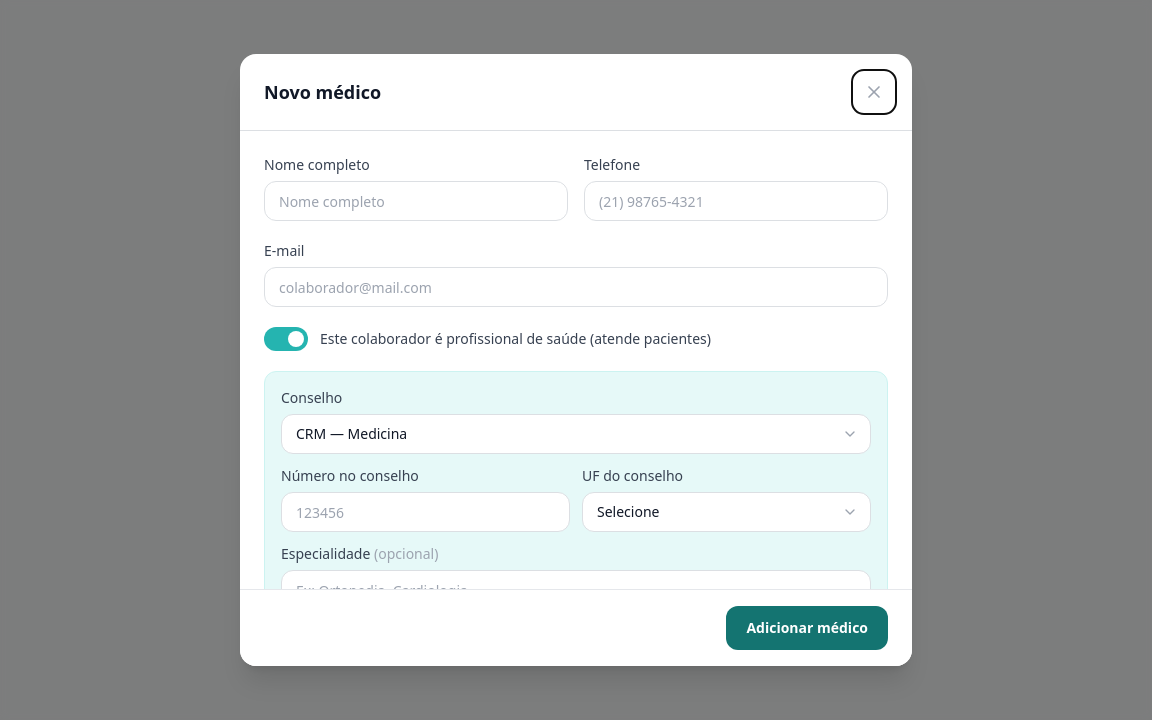
Test: NewCollaboratorModal — defaultIsDoctor › deve exibir mensagem de erro de médico ao falhar com defaultIsDoctor=true
Type "Dr. Teste" into the field with placeholder "Nome completo" at (416, 201), box [264,181,568,221]
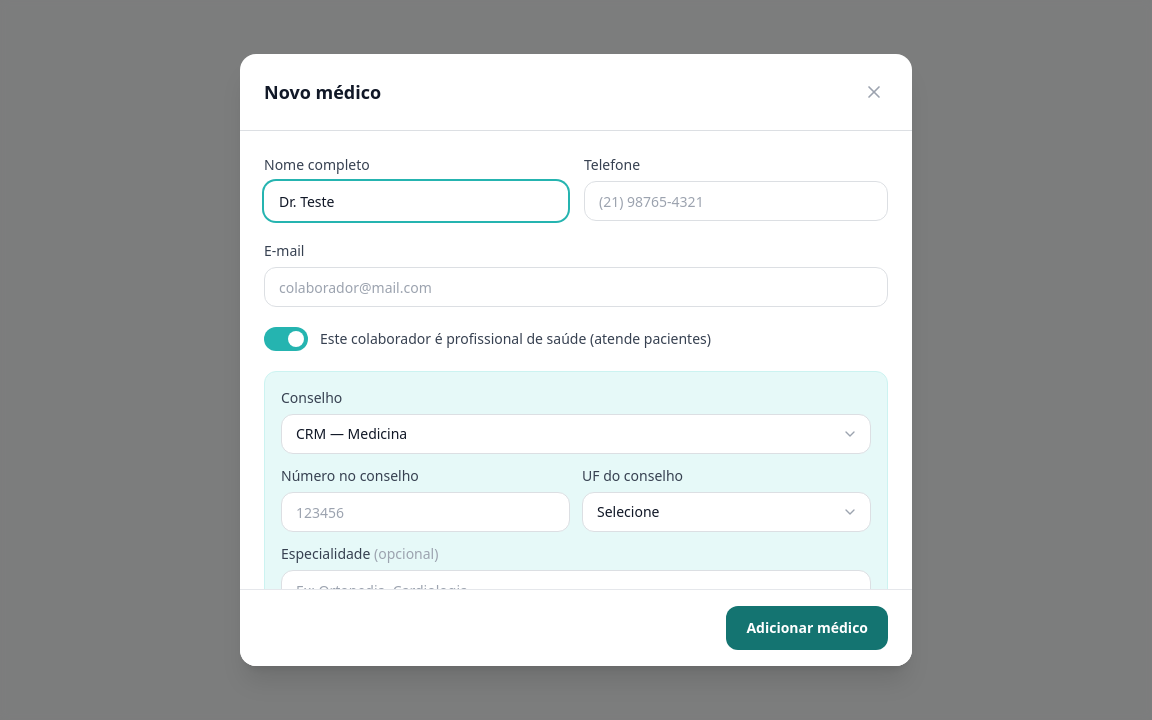
Type "21987654321" into the field with placeholder "(21) 98765-4321" at (736, 201), box [584,181,888,221]
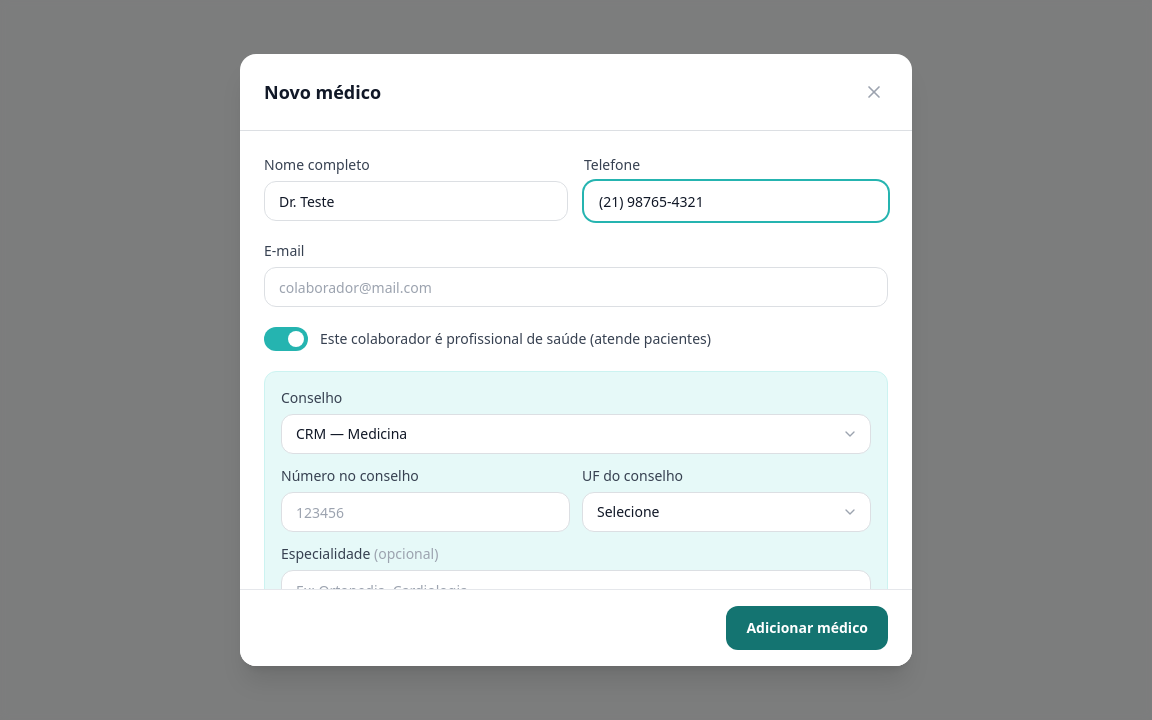
Type "teste@email.com" into the field with placeholder "colaborador@mail.com" at (576, 287), box [264,267,888,307]
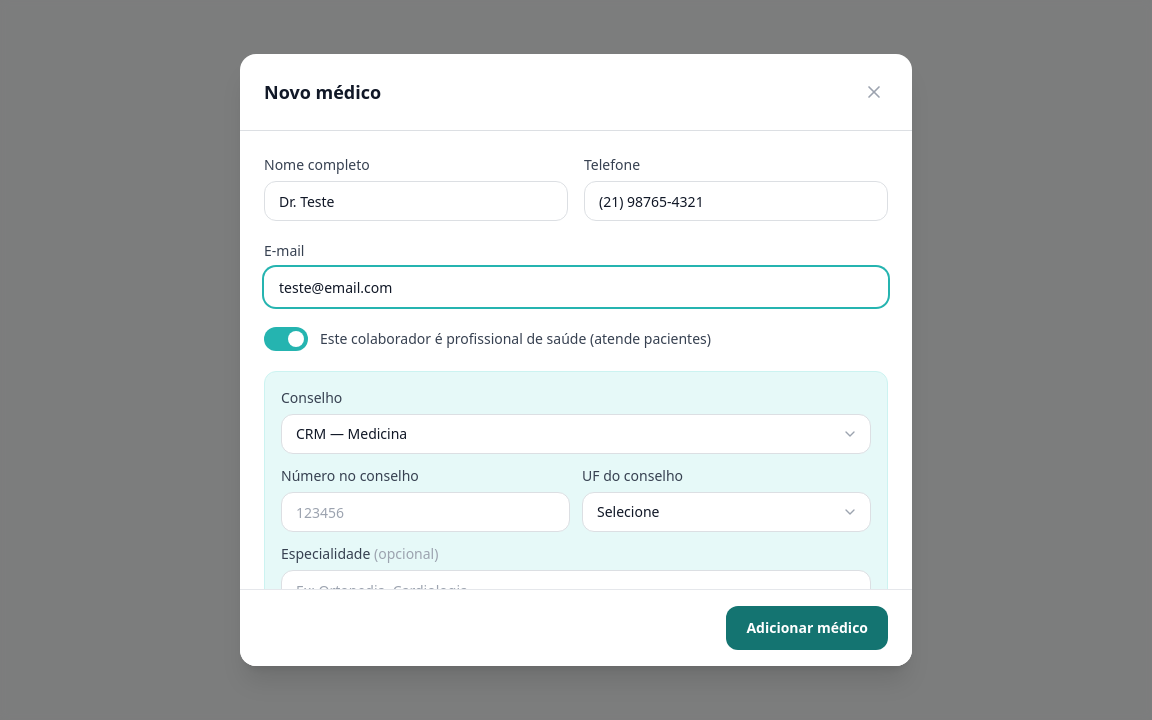
Type "111222" into the field with placeholder "123456" at (426, 512), box [281,492,570,532]
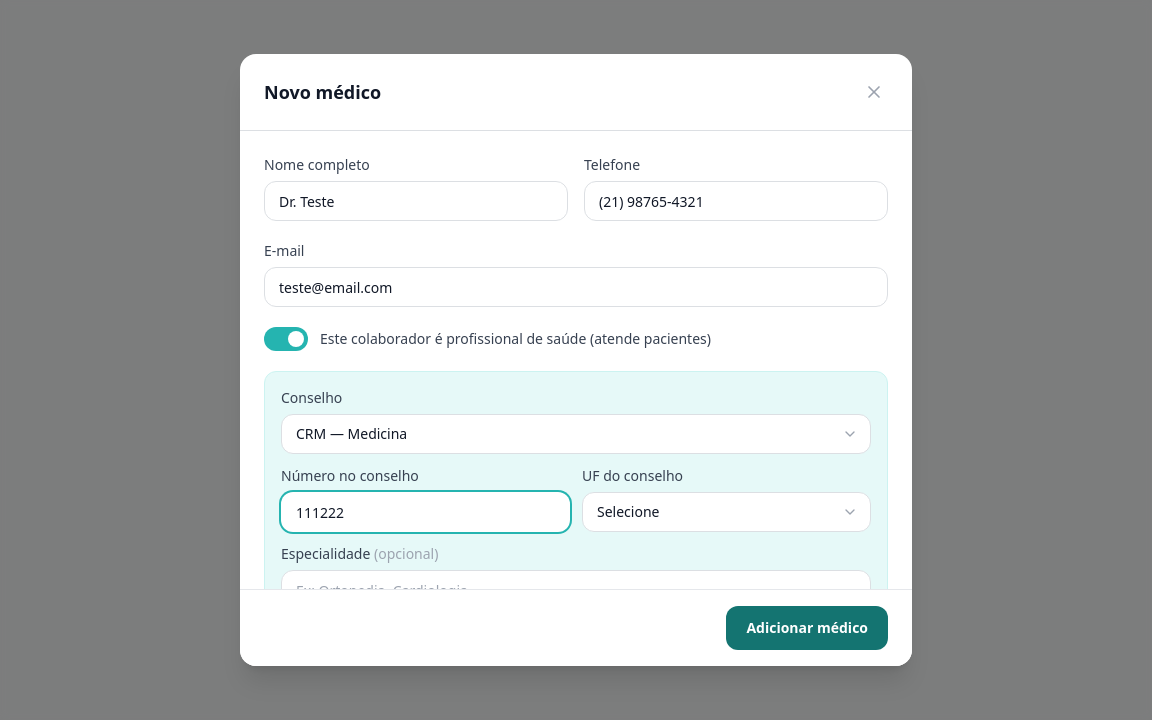
Select "SP" in the dropdown showing "Selecione" at (726, 512), box [582,492,871,532]
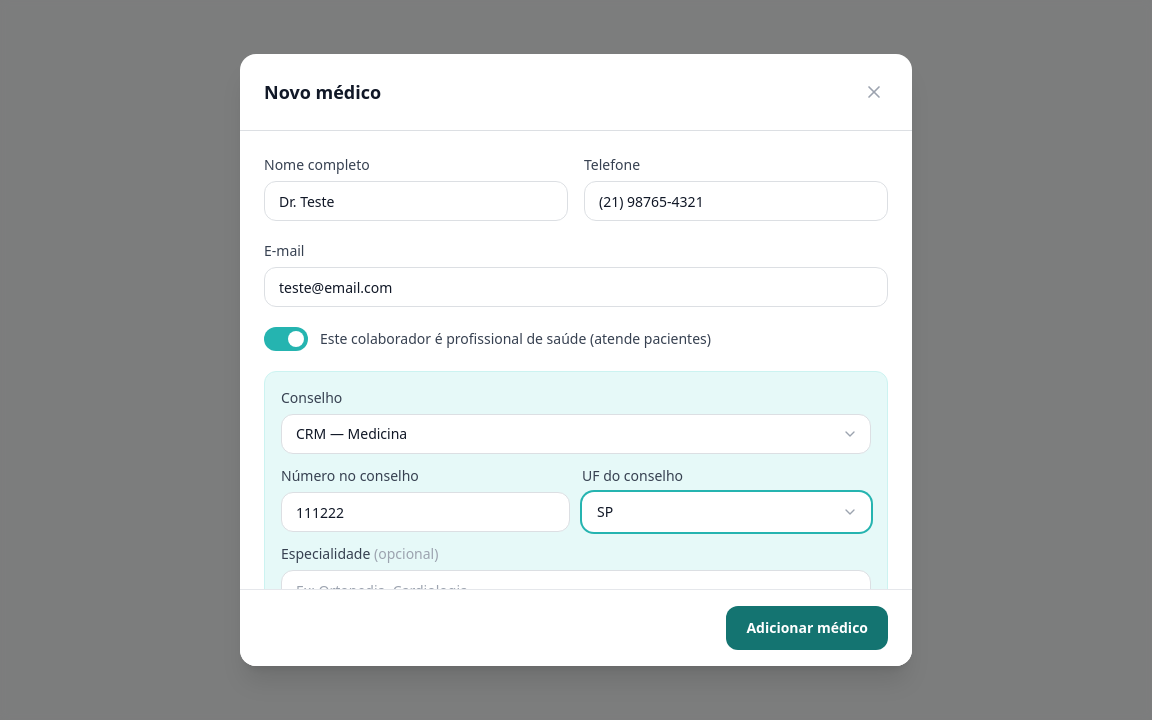
Click the button "Adicionar médico" at (807, 628), box [726,606,888,650]
(page scrolled)
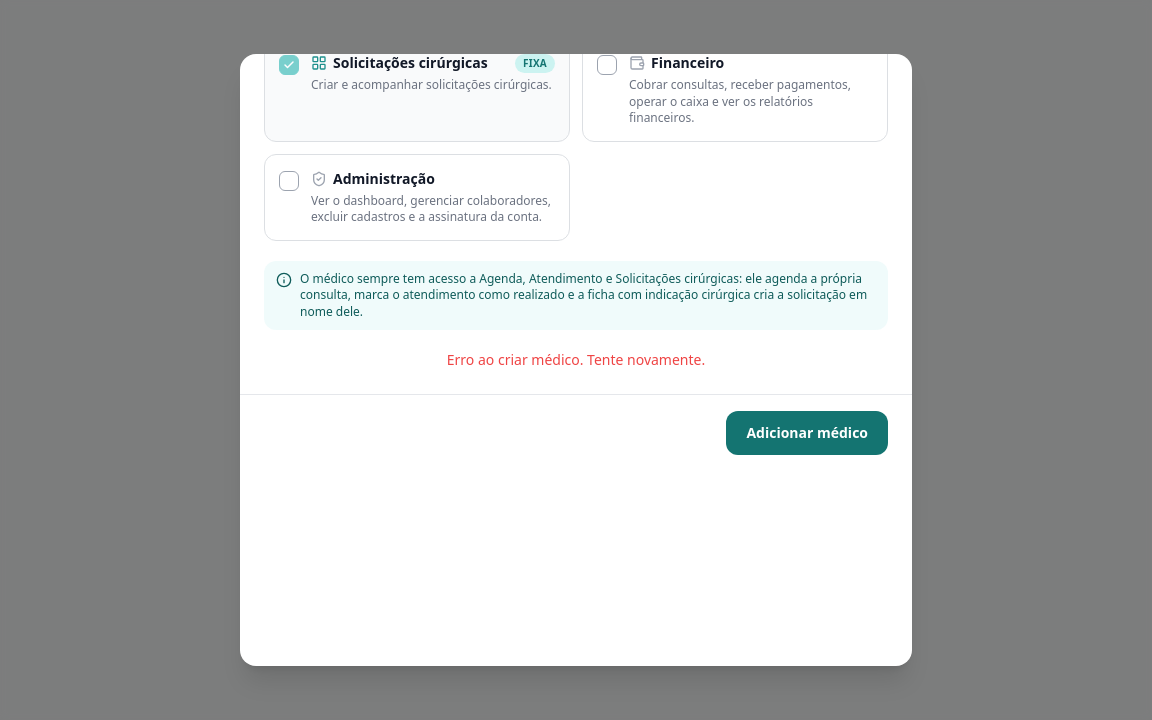
Result: the text "Erro ao criar médico. Tente novamente." is shown at [447,350,705,369]
